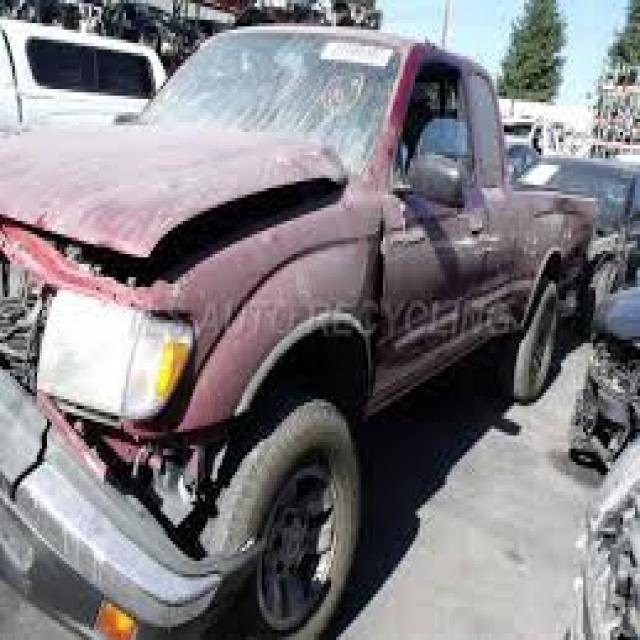severe: (0, 168, 316, 640)
